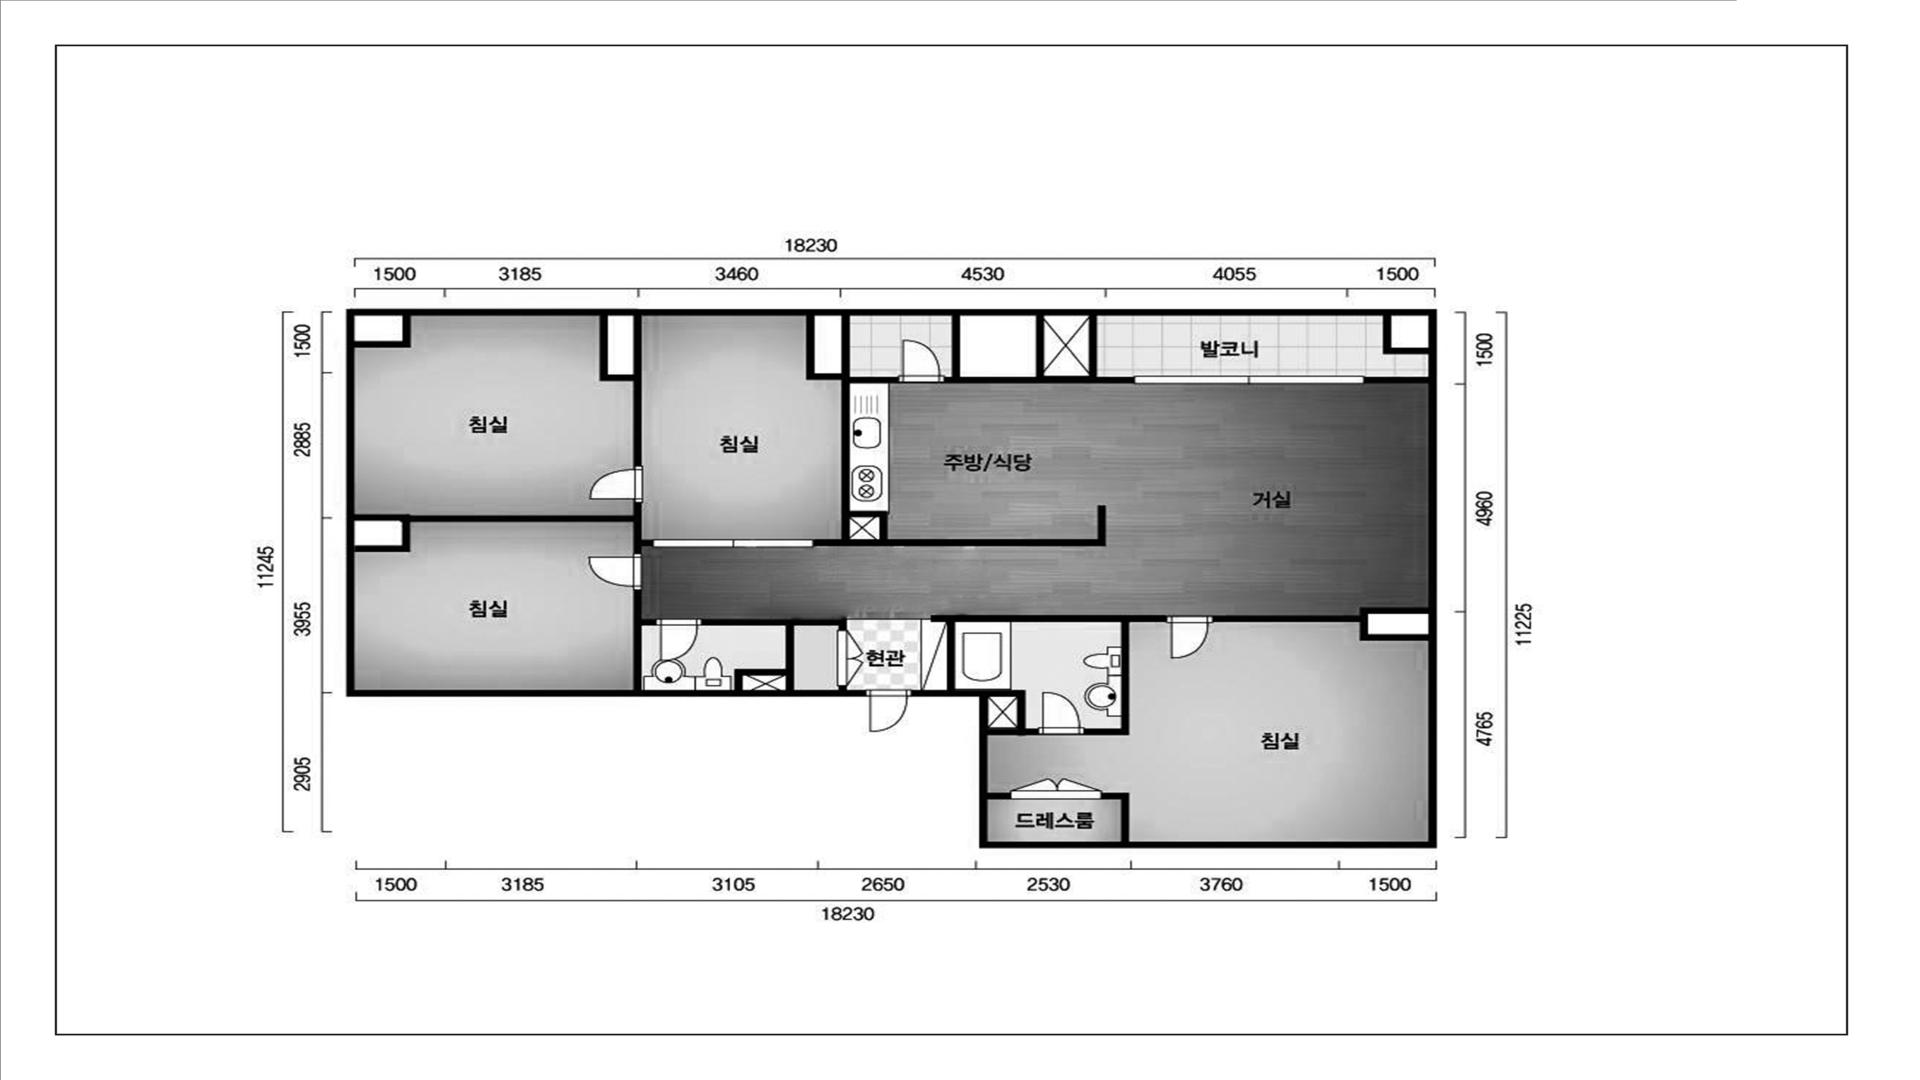background: (0, 0, 1920, 1080)
door: (1011, 777, 1101, 800), (898, 339, 944, 384), (865, 690, 913, 733), (1166, 616, 1212, 659), (588, 467, 644, 502), (587, 554, 642, 589), (1039, 692, 1084, 736), (657, 618, 702, 661), (653, 539, 814, 547)
wall: (345, 309, 1437, 848), (807, 315, 1105, 546), (931, 616, 1167, 735), (355, 502, 653, 554), (944, 315, 1134, 384), (702, 618, 847, 690), (1212, 608, 1428, 641), (599, 315, 642, 467), (633, 589, 657, 690), (988, 690, 1039, 736), (355, 315, 411, 348), (1383, 315, 1428, 353), (1101, 793, 1129, 841), (849, 512, 887, 539), (1364, 377, 1428, 384), (988, 793, 1011, 799), (839, 686, 847, 690)
window: (1134, 376, 1364, 384)
